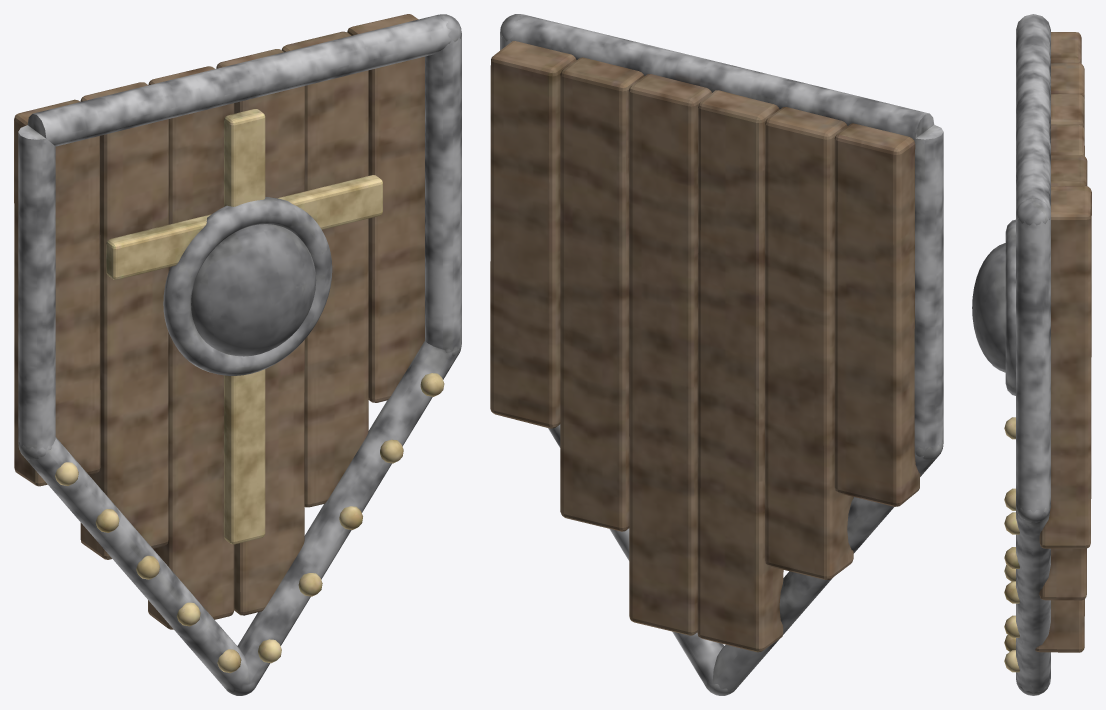
The model's file is shield.glb.
3 views of the same model, side by side, from view 1: azimuth 30°, elevation 25°; view 2: azimuth 150°, elevation 25°; view 3: azimuth 270°, elevation 25° (orthographic). The views are drawn at different scales.
Parts seen in each view (by area): view 1: wood_old, metal_iron, metal_brass; view 2: wood_old, metal_iron; view 3: metal_iron, wood_old, metal_brass.
Boxes of the visible parts, x1,y1,x2,y2 form: wood_old: [14, 14, 424, 629]; metal_iron: [18, 14, 461, 695]; metal_brass: [55, 109, 444, 673]; wood_old: [490, 41, 920, 652]; metal_iron: [500, 14, 943, 695]; metal_iron: [972, 14, 1050, 695]; wood_old: [1035, 32, 1091, 652]; metal_brass: [1004, 417, 1019, 672].
Size of the model in its own units: 0.324 by 0.444 by 0.082.
Materials: 3 (3 with a texture image).
